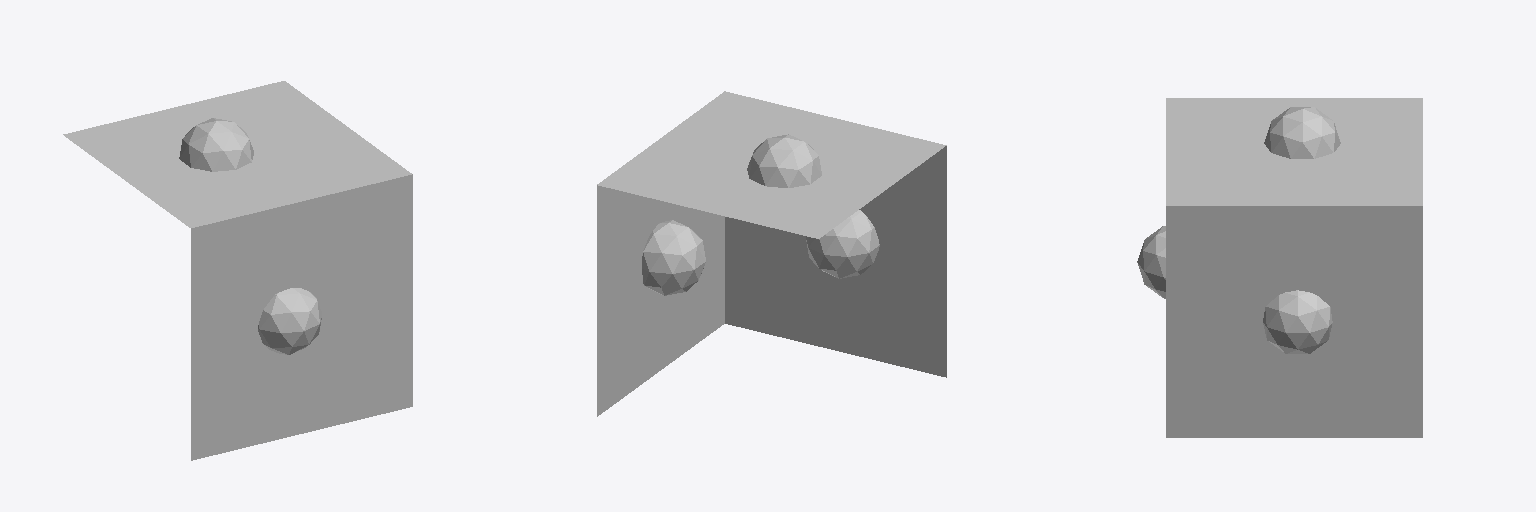
3 renders of one model, left to right at view 1: azimuth 30°, elevation 25°; view 2: azimuth 150°, elevation 25°; view 3: azimuth 270°, elevation 25°, orthographic.
Parts seen in each view (by area): view 1: tile.012_Cube.014, placement_y_neg.001_Icosphere.022, placement_z.012_Icosphere.019; view 2: tile.012_Cube.014, placement_x.003_Icosphere.020, placement_y_neg.001_Icosphere.022, placement_z.012_Icosphere.019; view 3: tile.012_Cube.014, placement_x.003_Icosphere.020, placement_z.012_Icosphere.019, placement_y_neg.001_Icosphere.022.
Boxes of the visible parts, box(x1,y1,x2,y2) form: tile.012_Cube.014: box(63, 81, 412, 460); placement_y_neg.001_Icosphere.022: box(258, 288, 321, 354); placement_z.012_Icosphere.019: box(179, 118, 253, 171); tile.012_Cube.014: box(597, 91, 946, 416); placement_x.003_Icosphere.020: box(642, 220, 705, 295); placement_y_neg.001_Icosphere.022: box(806, 210, 879, 278); placement_z.012_Icosphere.019: box(747, 134, 821, 187); tile.012_Cube.014: box(1166, 98, 1422, 437); placement_x.003_Icosphere.020: box(1263, 290, 1332, 353); placement_z.012_Icosphere.019: box(1264, 107, 1340, 158); placement_y_neg.001_Icosphere.022: box(1137, 226, 1165, 298).
Bounding box in the file's own units: 2.2 × 2.3 × 2.23.